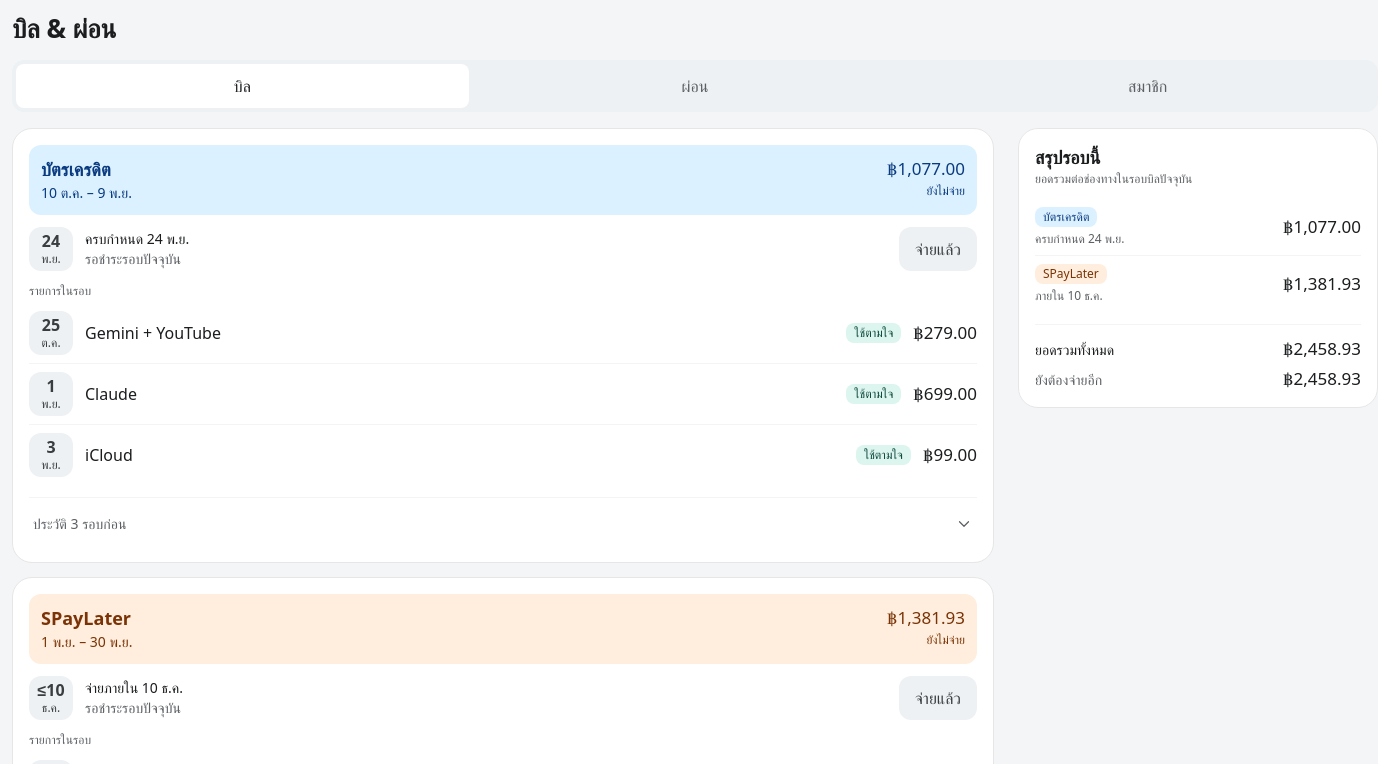
<BillsPage> › แท็บบิล › shows collapsible history of the 3 previous cycles
The width and height of the screenshot is (1378, 764).
Step 1. Click the button "ประวัติ 3 รอบก่อน" → (80, 524), box [29,502,977,546]
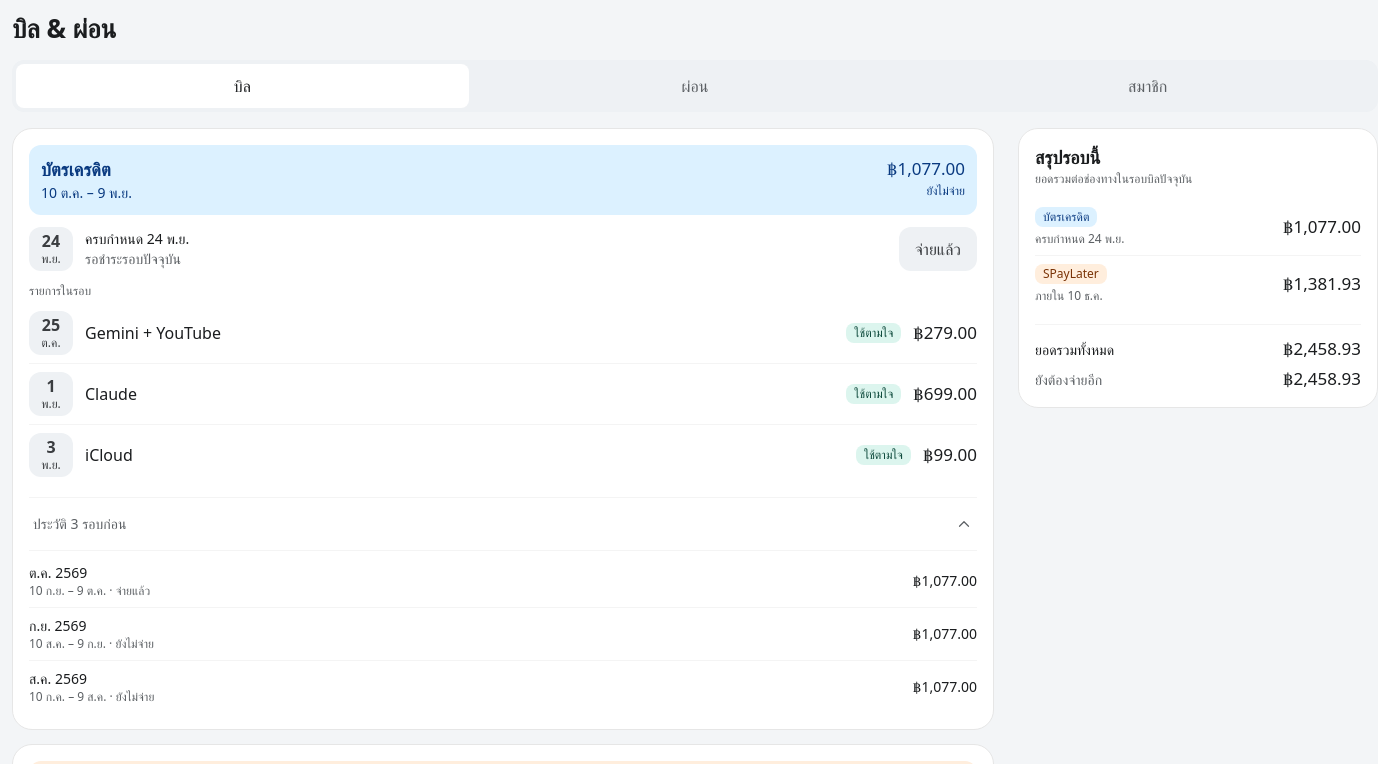
Now the button "ประวัติ 3 รอบก่อน" is expanded, box [29,502,977,546]
Now the number of elements with test id "history-cycle-row" is 3, box [29,555,977,608]; [29,608,977,661]; [29,661,977,713]
Now the text "จ่ายแล้ว" is shown, box [116,582,150,599]
